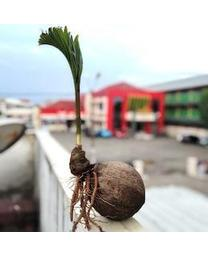coconut: (71, 143, 146, 221)
